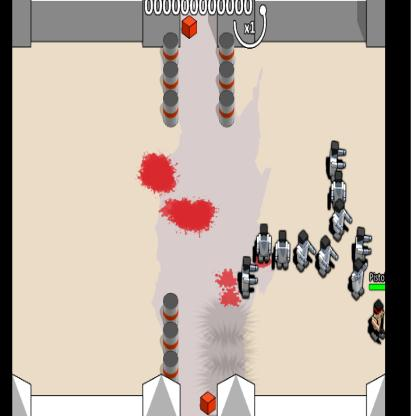agent: (370, 298, 385, 342)
jombie: (256, 222, 272, 263), (352, 259, 366, 302), (297, 230, 311, 272), (276, 230, 290, 271), (318, 237, 332, 277), (333, 200, 345, 240), (241, 256, 252, 299), (328, 140, 342, 171), (333, 172, 346, 200), (356, 227, 366, 258)
